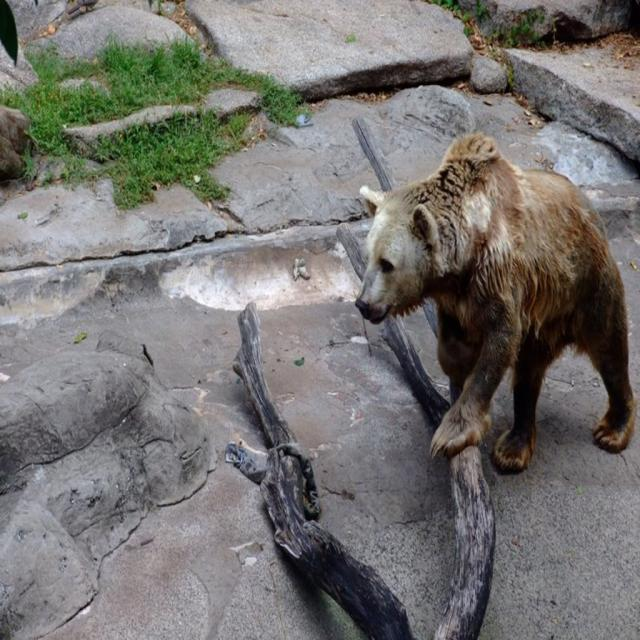Cheetahs: (353, 128, 636, 476)
